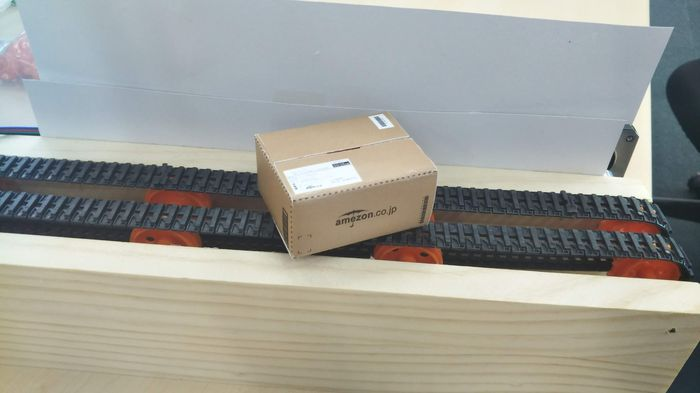box1: (248, 107, 440, 258)
